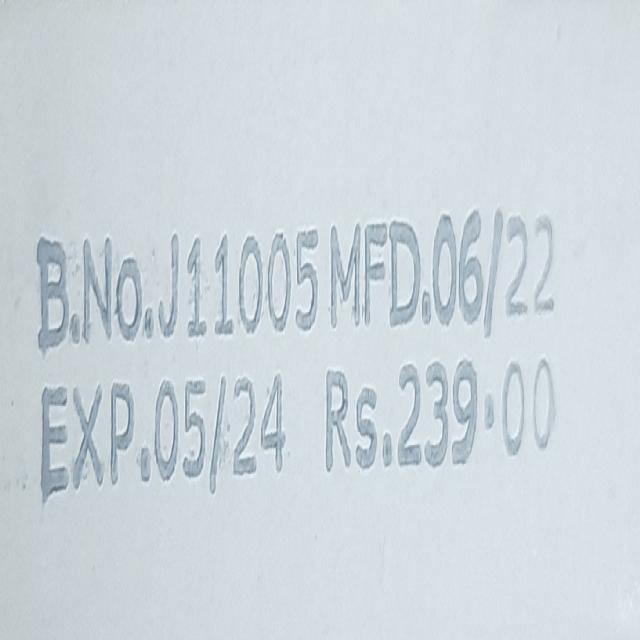sentence: (40, 345, 556, 502), (36, 210, 552, 354)
